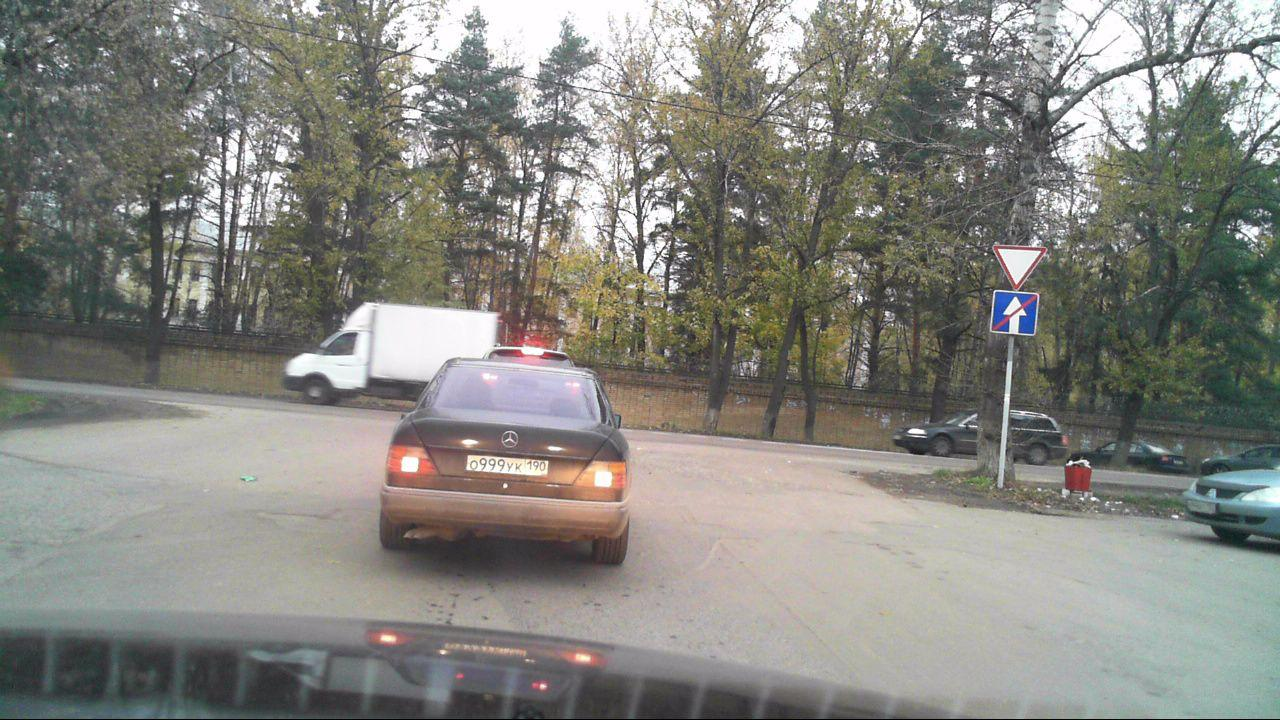2_4: (997, 246, 1046, 291)
5_6: (993, 293, 1041, 336)
